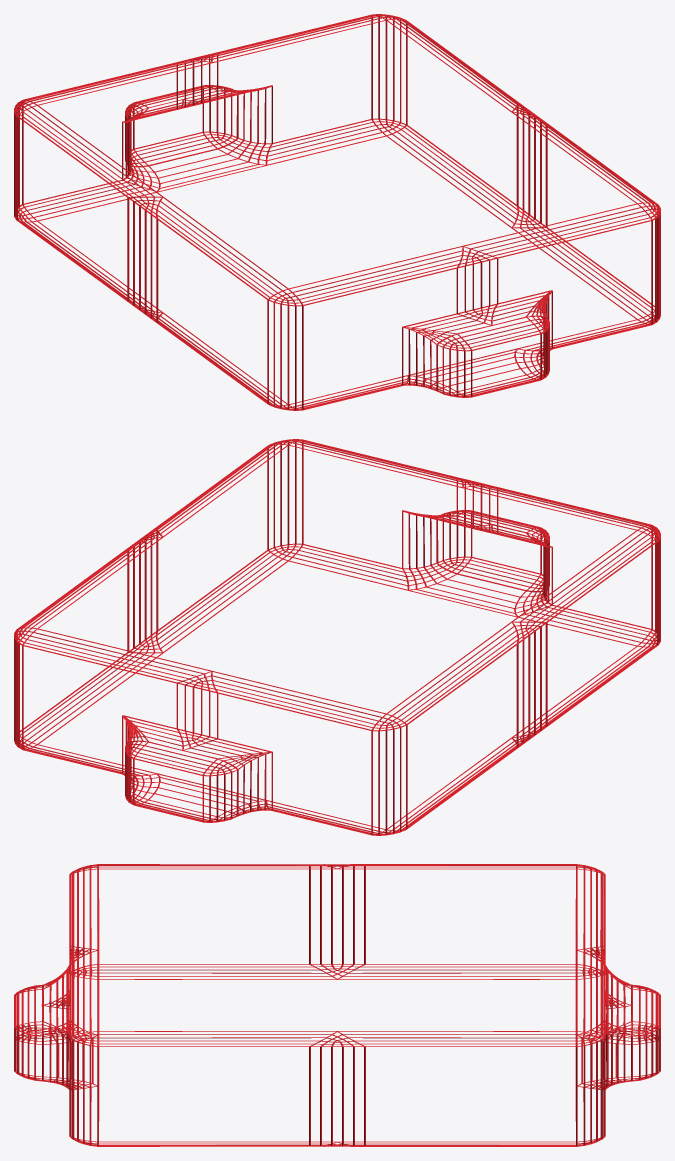
Rendered from stade.obj.
The picture shows the model from 3 angles, top to bottom: view 1: azimuth 30°, elevation 25°; view 2: azimuth 150°, elevation 25°; view 3: azimuth 270°, elevation 25°; orthographic projection. The views are drawn at different scales.
Visible parts, largest first — view 1: Cube; view 2: Cube; view 3: Cube.
Part boxes in pixels (bbox=[...]): Cube: bbox=[14, 14, 660, 410]; Cube: bbox=[14, 439, 660, 835]; Cube: bbox=[14, 864, 660, 1146].
Size of the model in its own units: 83.99 by 23.88 by 126.
